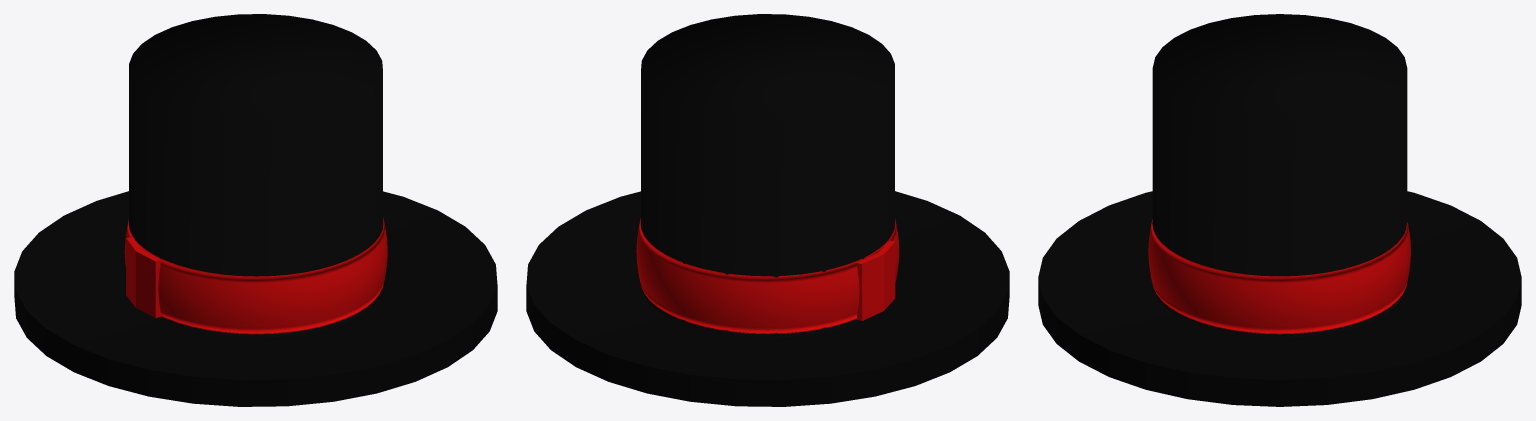
Rendered from âVâïâNânâbâg.fbx.
3 renders of one model, left to right at view 1: azimuth 30°, elevation 25°; view 2: azimuth 150°, elevation 25°; view 3: azimuth 270°, elevation 25°, orthographic.
Visible parts, largest first — view 1: シルクハット, 帯, リボン留め; view 2: シルクハット, 帯, リボン留め; view 3: シルクハット, 帯.
Boxes of the visible parts, x1,y1,x2,y2 form: シルクハット: [14, 14, 497, 406]; 帯: [124, 217, 387, 334]; リボン留め: [126, 237, 160, 317]; シルクハット: [526, 14, 1009, 406]; 帯: [636, 218, 899, 333]; リボン留め: [856, 240, 895, 320]; シルクハット: [1038, 14, 1521, 406]; 帯: [1148, 219, 1410, 334].
Size of the model in its own units: 380 by 206 by 380.
